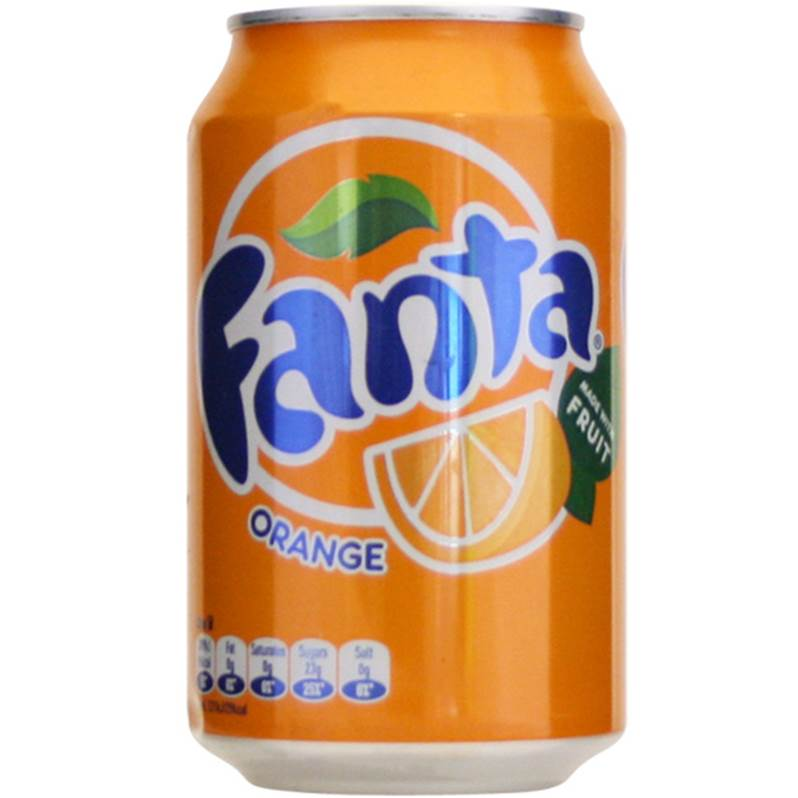fanta_can: (186, 7, 627, 797)
